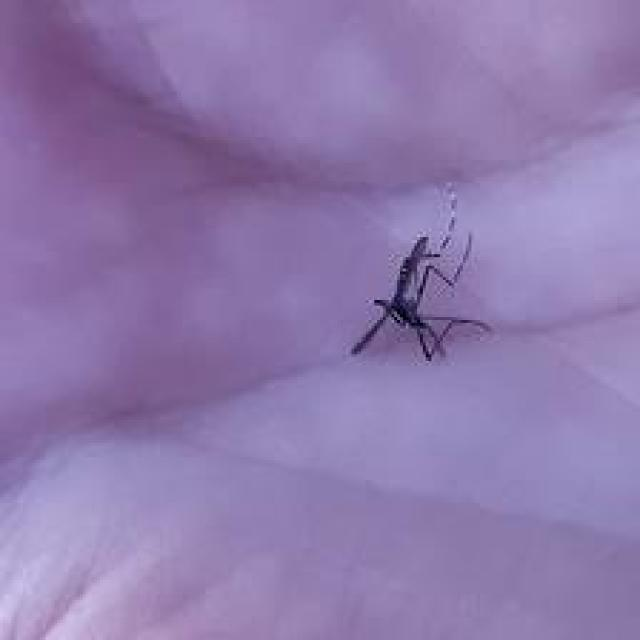Aedes albopictus: (350, 182, 493, 362)
